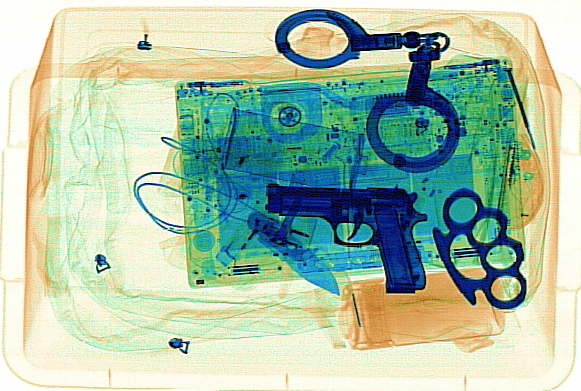handcuffs: (271, 1, 460, 174)
knife: (245, 205, 353, 301)
lighter: (214, 193, 274, 268)
zippooil: (214, 102, 364, 194)
